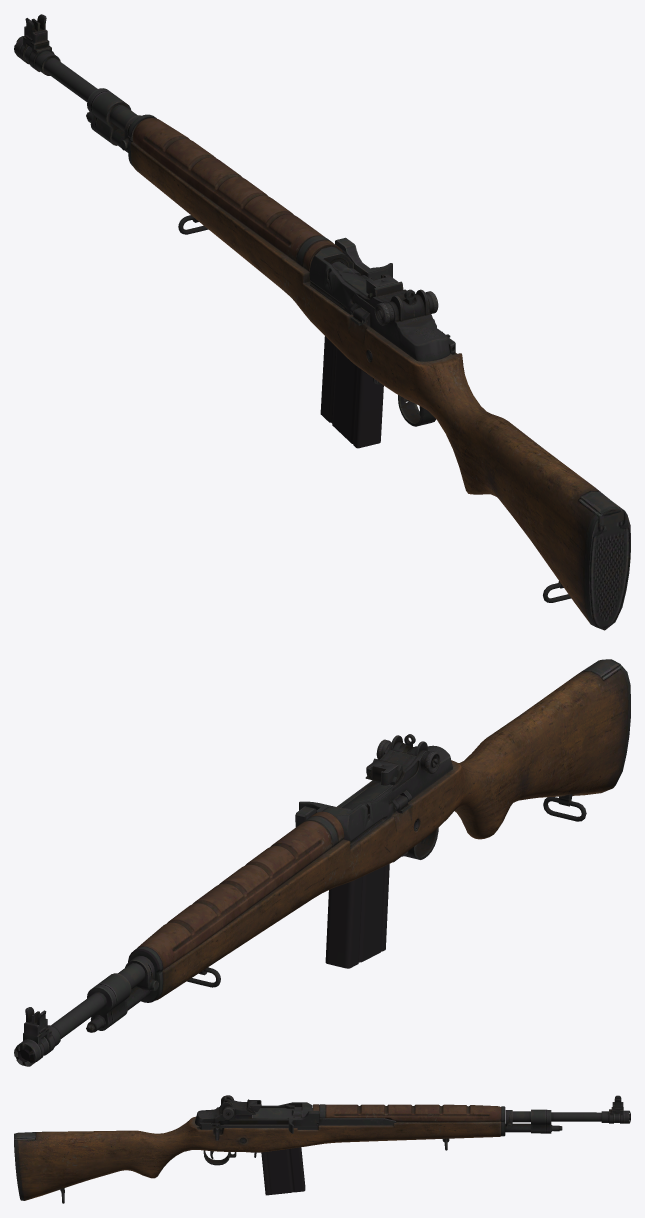
The picture shows the model from 3 angles, top to bottom: view 1: azimuth 30°, elevation 25°; view 2: azimuth 150°, elevation 25°; view 3: azimuth 270°, elevation 25°; orthographic projection. The views are drawn at different scales.
Visible parts, largest first — view 1: node_id10 (×5); view 2: node_id10 (×5); view 3: node_id10 (×5).
Boxes of the visible parts, x1=… form: node_id10 (×5): x1=14, y1=14, x2=630, y2=630; node_id10 (×5): x1=14, y1=659, x2=630, y2=1066; node_id10 (×5): x1=14, y1=1095, x2=630, y2=1203.
Size of the model in its own units: 0.2027 by 0.512 by 2.75.
Materials: 5 (5 with a texture image).
